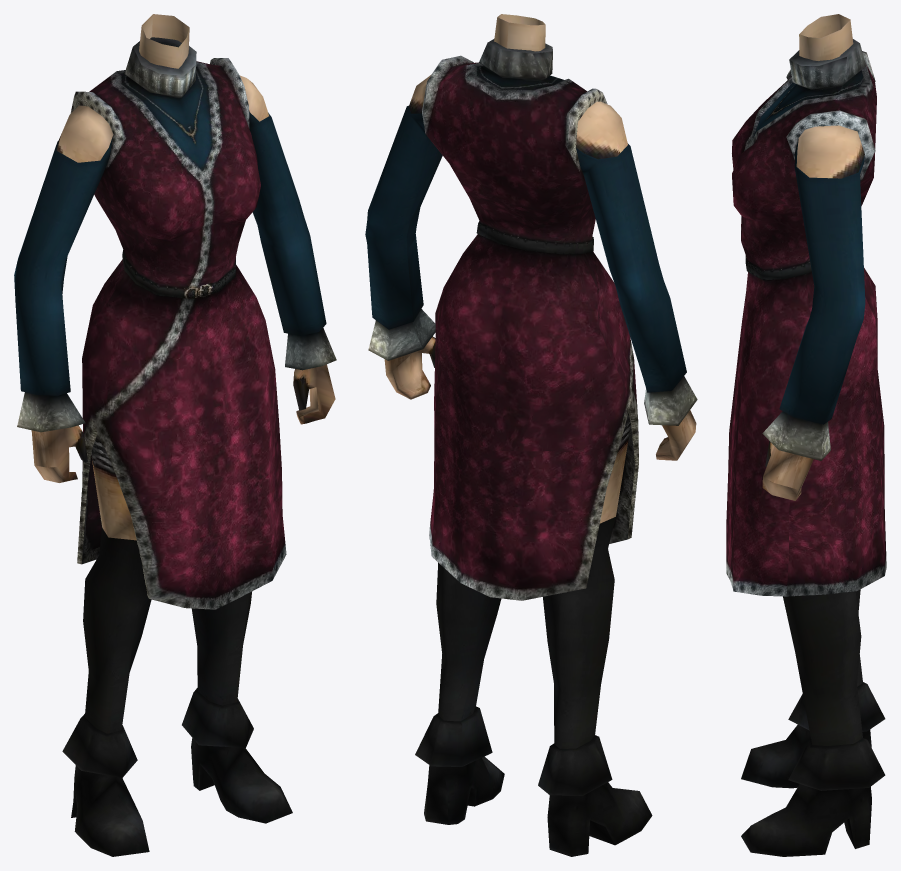
The model's file is KM_DRESS_02.glb.
The picture shows the model from 3 angles, left to right: view 1: azimuth 30°, elevation 25°; view 2: azimuth 150°, elevation 25°; view 3: azimuth 270°, elevation 25°; orthographic projection. The views are drawn at different scales.
Visible parts, largest first — view 1: KM_DRESS_02; view 2: KM_DRESS_02; view 3: KM_DRESS_02.
Part boxes in pixels (bbox=[...]): KM_DRESS_02: bbox=[14, 14, 336, 856]; KM_DRESS_02: bbox=[365, 14, 697, 856]; KM_DRESS_02: bbox=[726, 14, 886, 856].
Bounding box in the file's own units: 0.6694 × 1.67 × 0.307.
2 materials, 2 textured.
